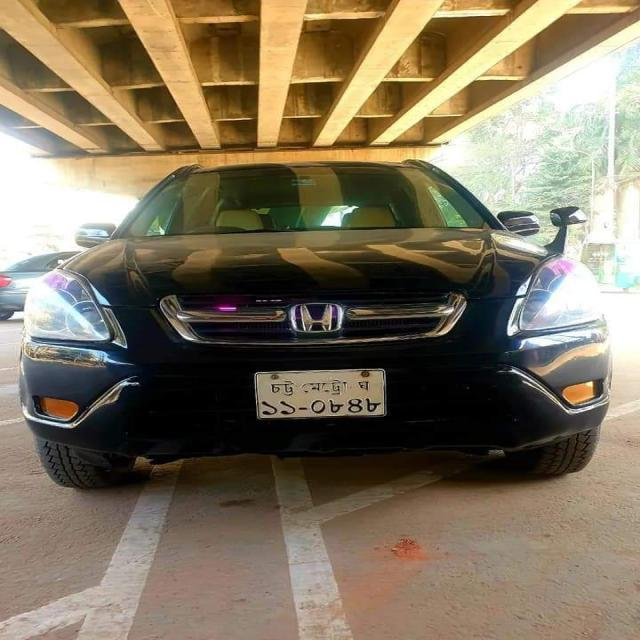black: (31, 151, 617, 480)
